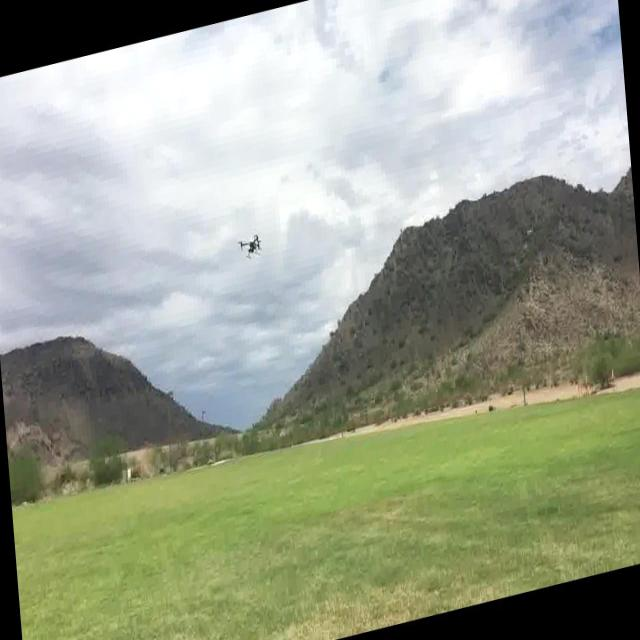drone: (236, 229, 266, 262)
